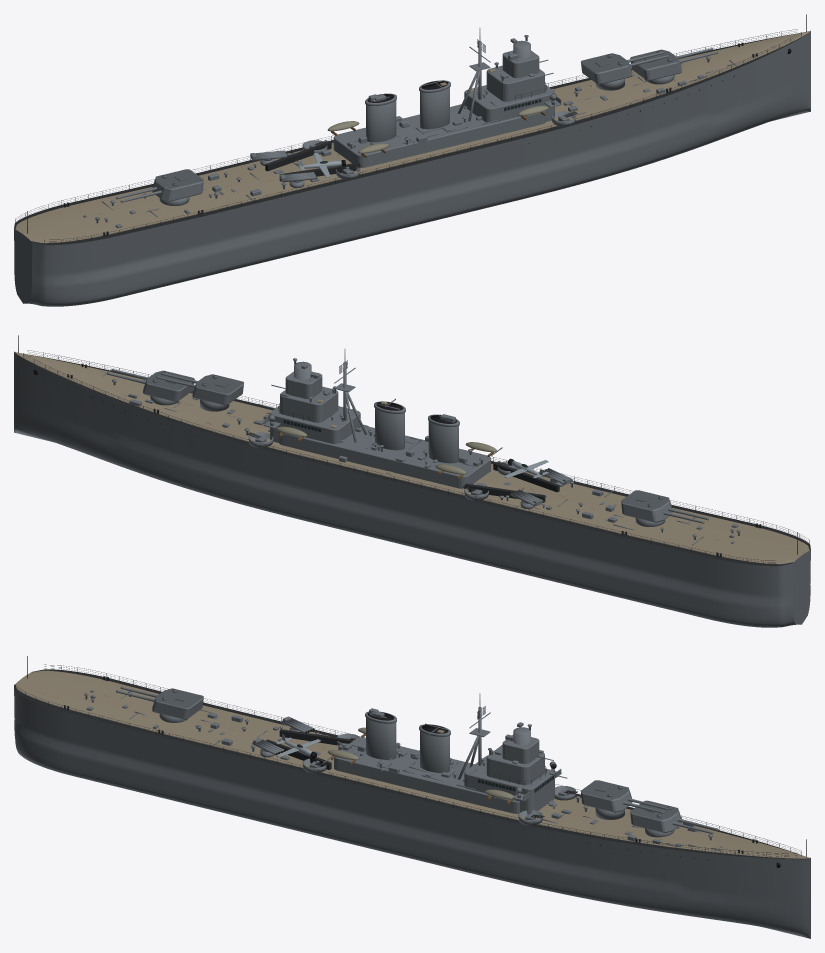
The model's file is exeter.glb.
3 views of the same model, one above another, from view 1: azimuth 30°, elevation 25°; view 2: azimuth 150°, elevation 25°; view 3: azimuth 330°, elevation 25° (orthographic).
Parts seen in each view (by area): view 1: exeter, T_2_malla, T_1_malla, T_0_malla; view 2: exeter, T_2_malla, T_1_malla, T_0_malla; view 3: exeter, T_1_malla, T_2_malla, T_0_malla.
Part boxes in pixels (left/top/right/bottom): exeter: left=14, top=14, right=810, bottom=306; T_2_malla: left=152, top=169, right=203, bottom=201; T_1_malla: left=581, top=53, right=632, bottom=84; T_0_malla: left=630, top=49, right=681, bottom=80; exeter: left=14, top=335, right=810, bottom=627; T_2_malla: left=621, top=490, right=672, bottom=522; T_1_malla: left=192, top=374, right=243, bottom=405; T_0_malla: left=143, top=370, right=194, bottom=401; exeter: left=14, top=656, right=810, bottom=938; T_1_malla: left=581, top=780, right=632, bottom=812; T_2_malla: left=152, top=688, right=203, bottom=719; T_0_malla: left=630, top=800, right=681, bottom=832.
Size of the model in its own units: 175 by 35 by 18.73.
